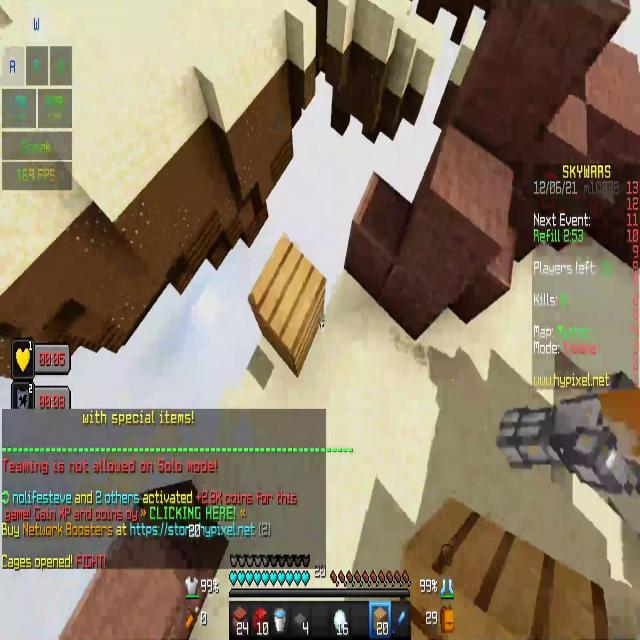Player: (491, 361, 640, 507)
